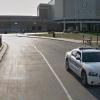Car: (62, 39, 100, 96)
